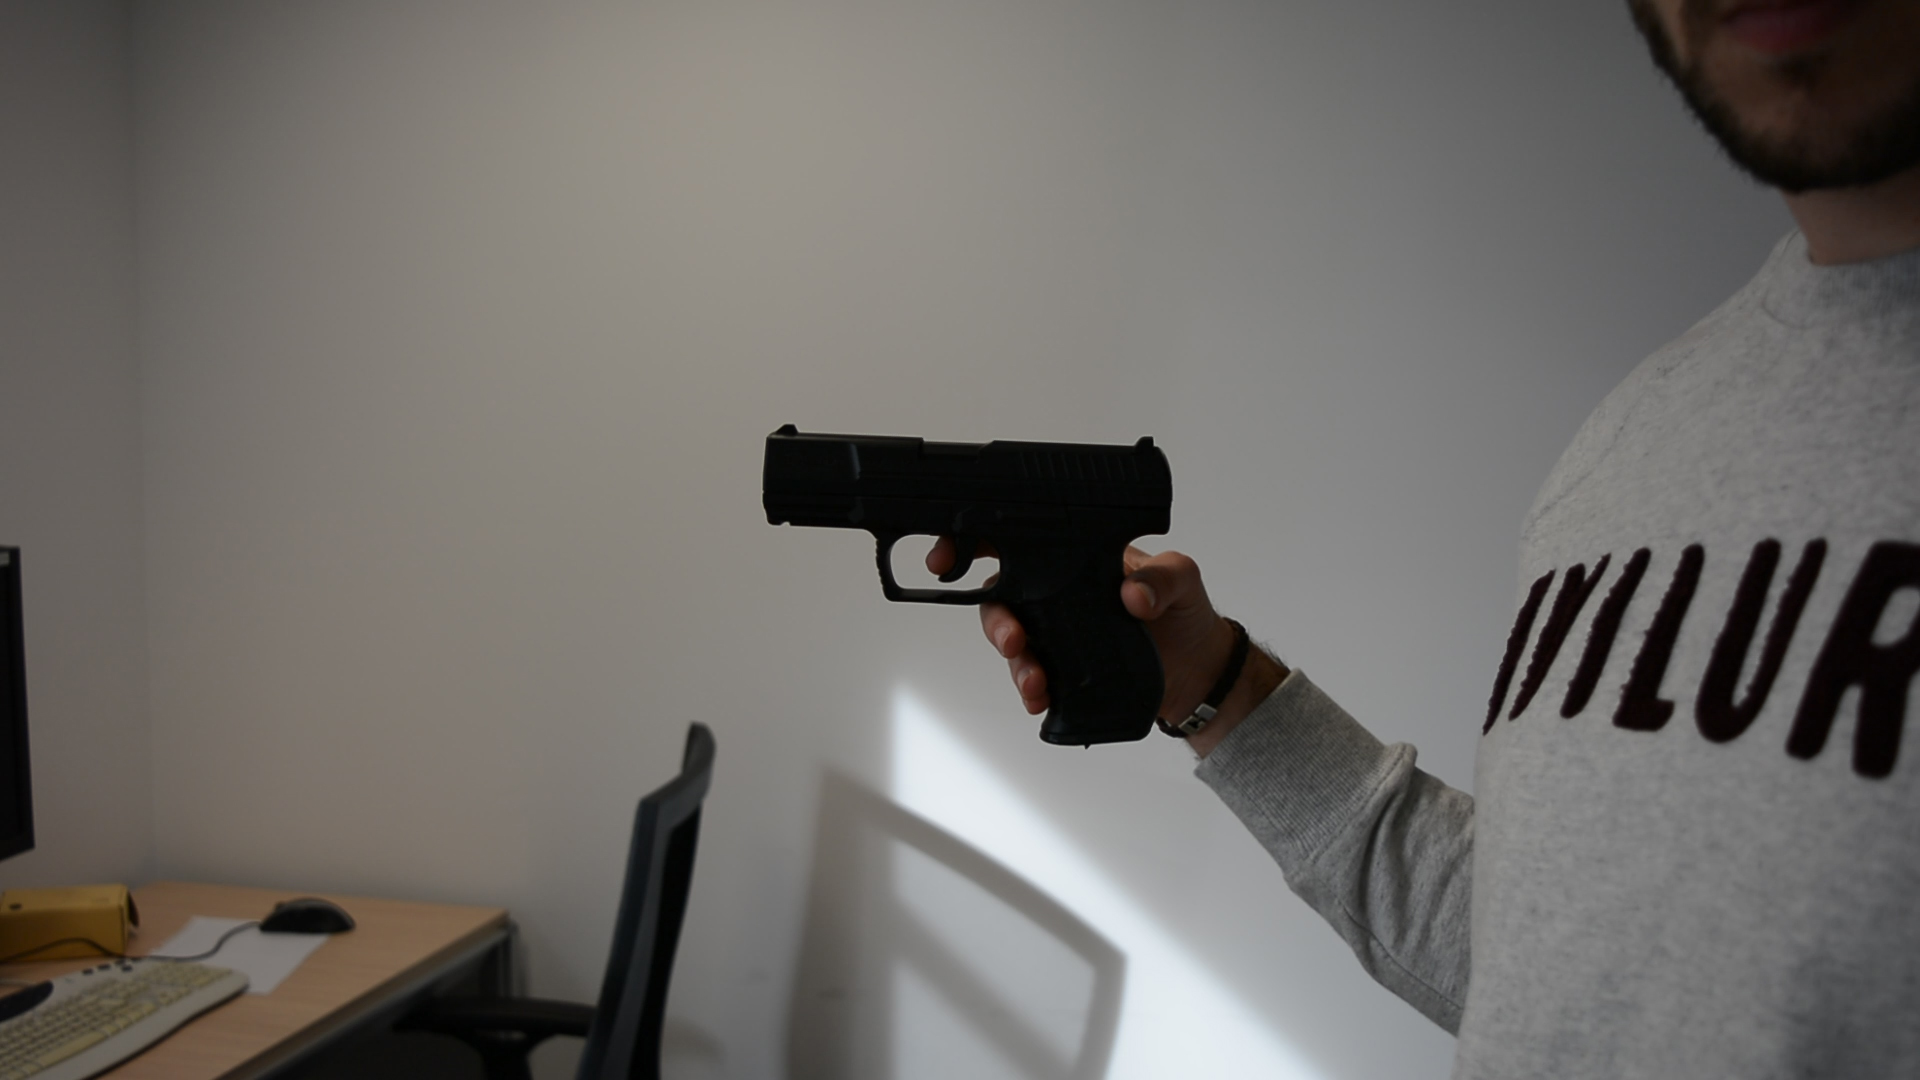pistol: (760, 421, 1176, 752)
